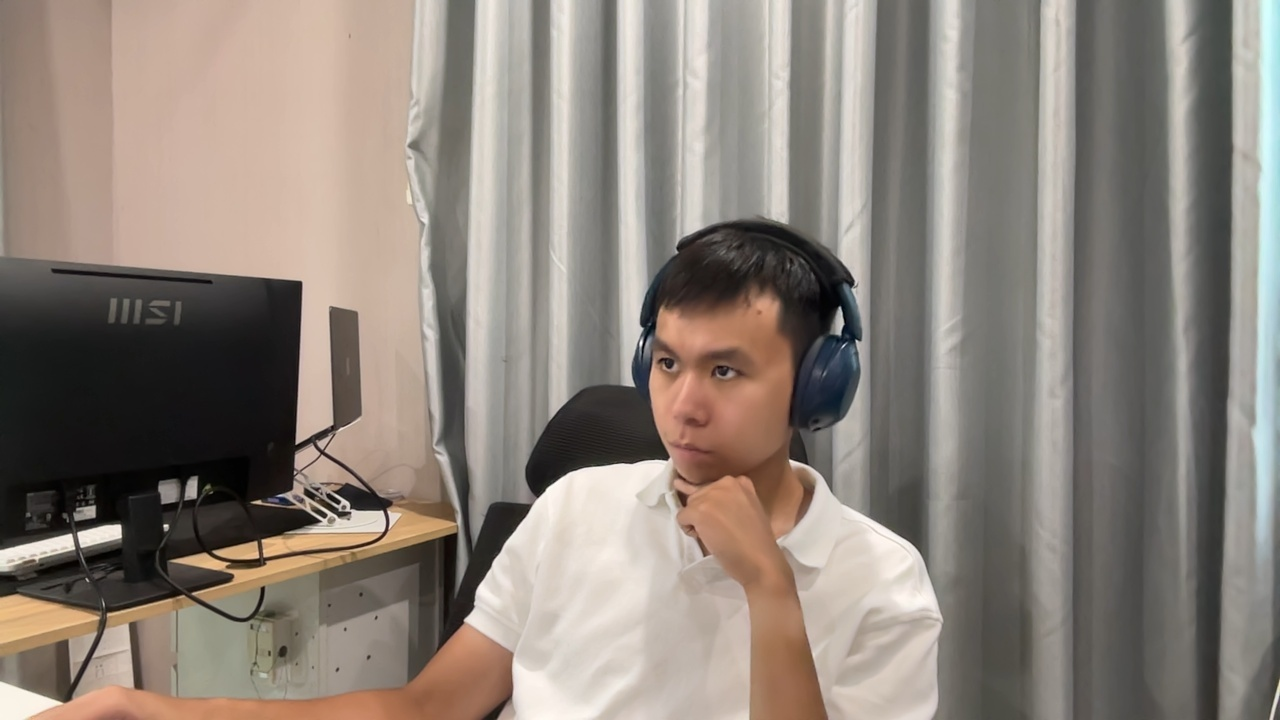over_ear: (655, 217, 865, 436), (678, 217, 865, 438), (786, 279, 864, 438)
